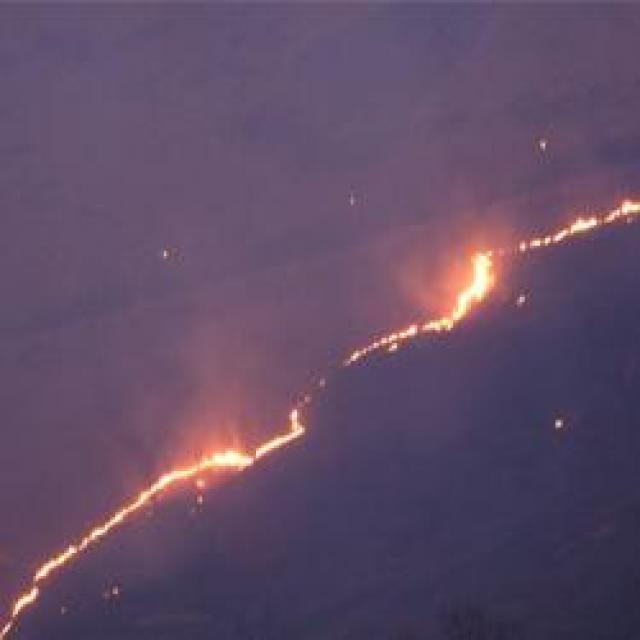fire: (437, 246, 515, 325), (560, 192, 640, 242), (196, 436, 268, 486)
